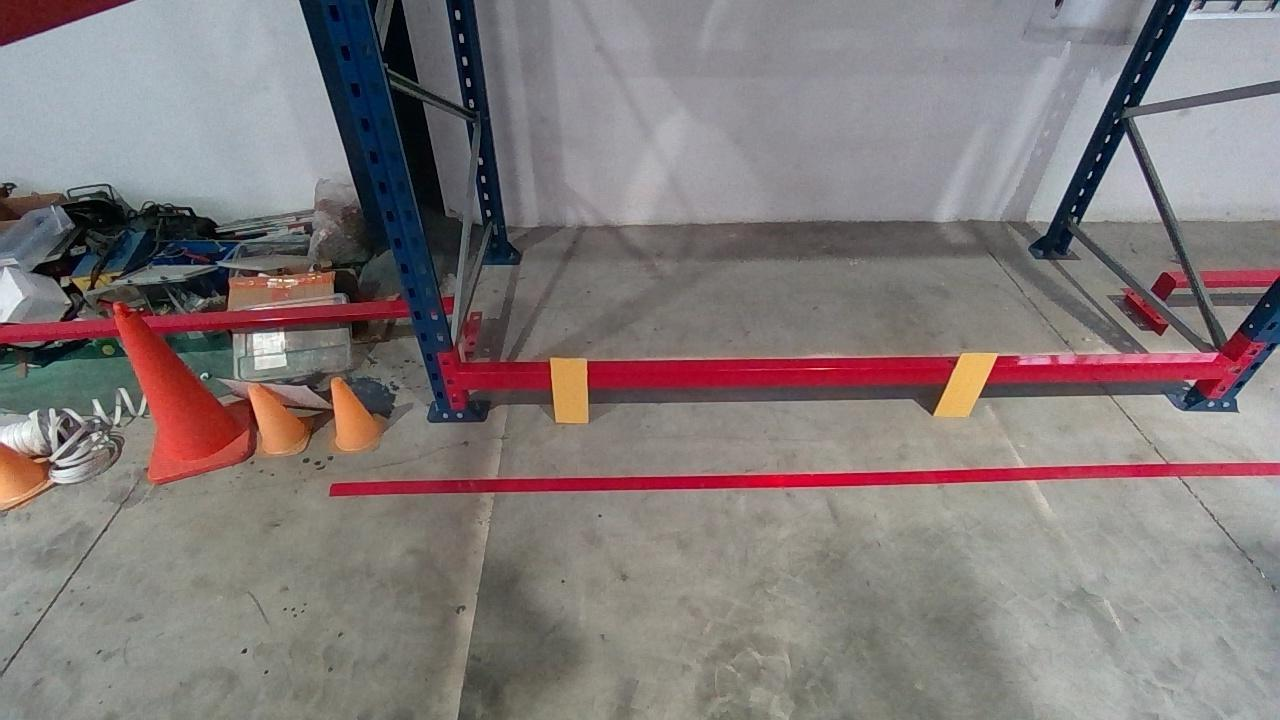h_rack: (459, 363, 1224, 390)
orange_strip: (931, 351, 1002, 415), (548, 358, 588, 422)
red_line: (327, 461, 1275, 495)
